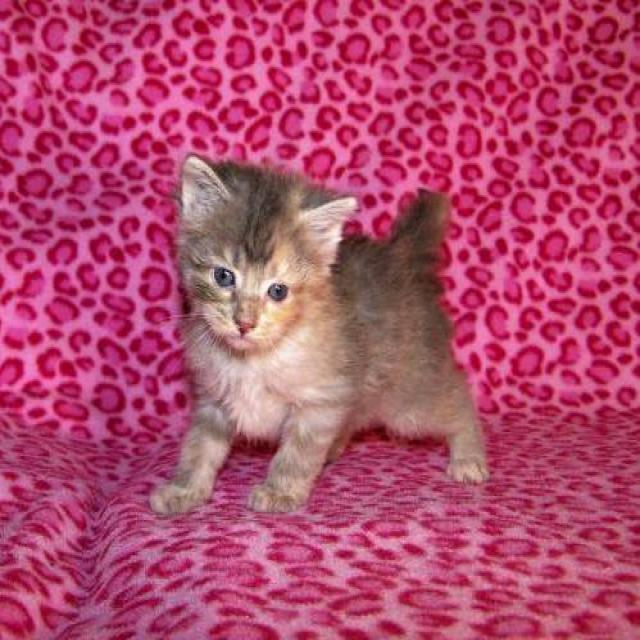cat: (147, 150, 490, 517)
